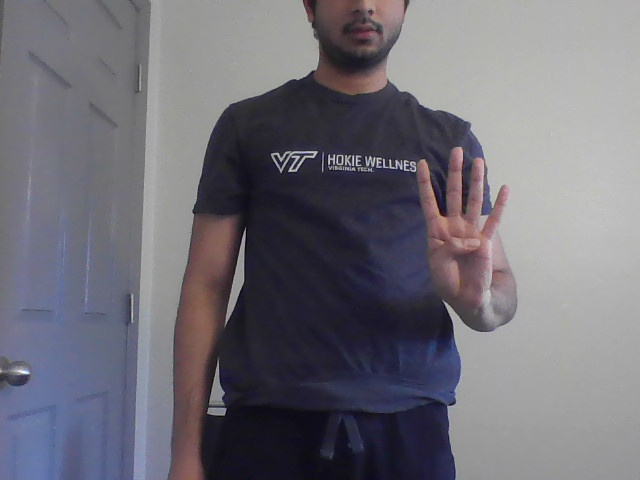four: (409, 144, 516, 292)
